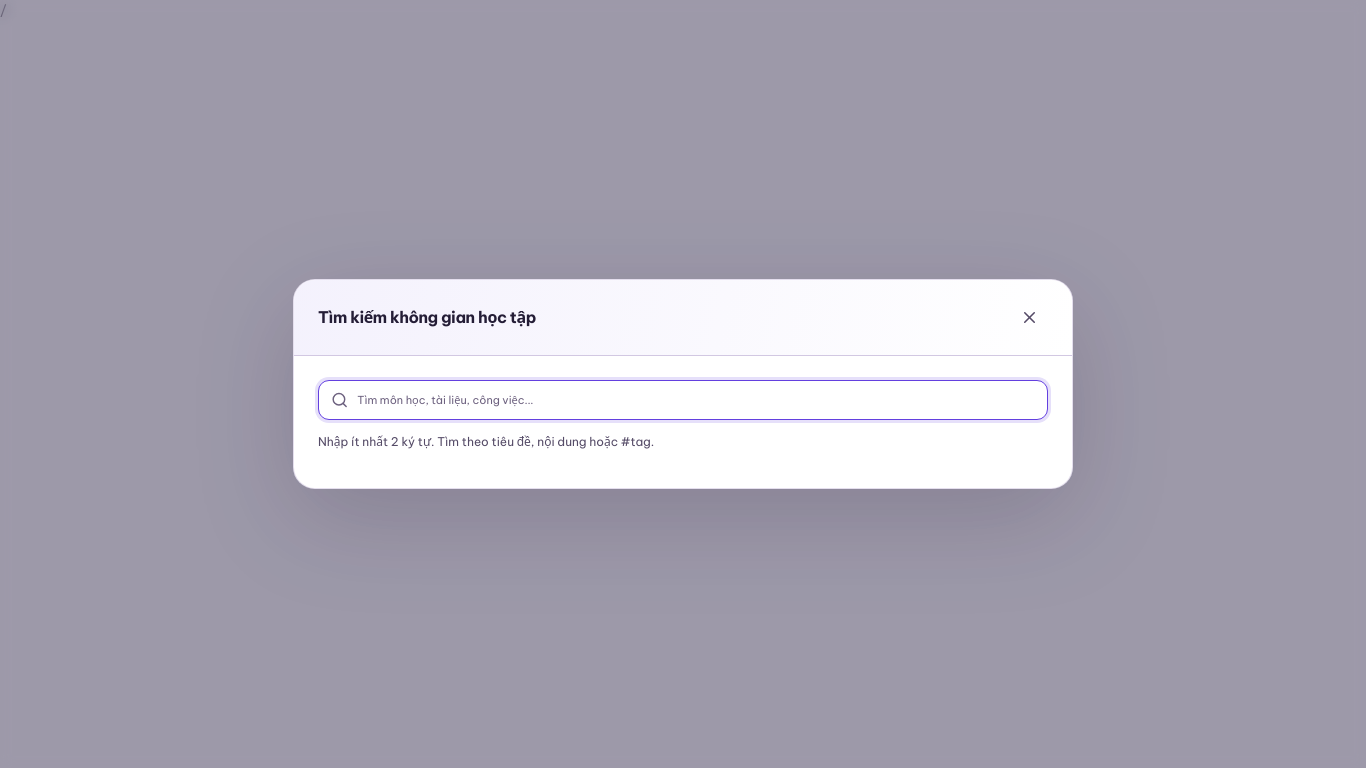
Workspace navigation › groups the real flat search response and opens the selected task
Type "chương" into the field named "Tìm kiếm toàn bộ" at (696, 400), box [357,382,1035,419]
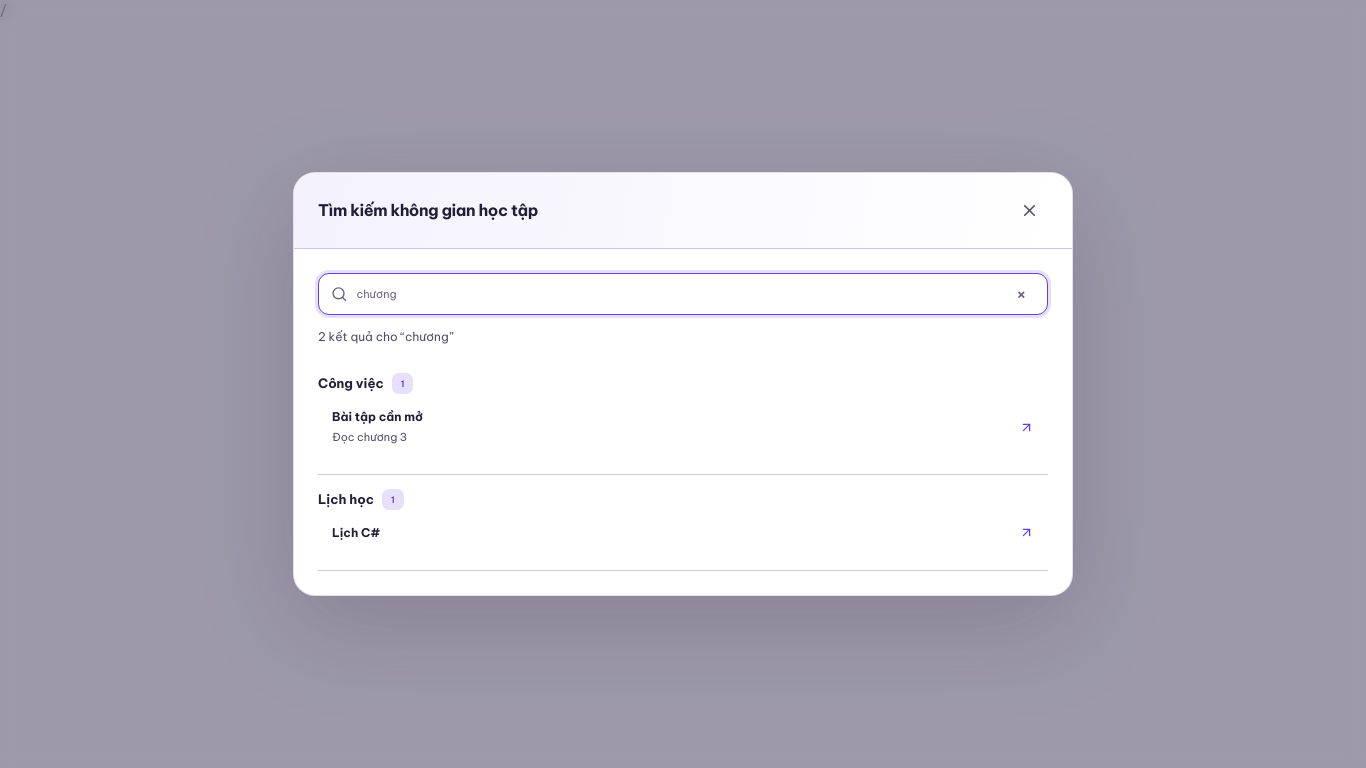
Now the text "Bài tập cần mở" is shown, box [332,409,423,424]
Now the heading "Lịch học 1" is shown, box [318,489,404,510]
Click the button "Bài tập cần mở Đọc chương 3" at (377, 417), box [318,394,1048,460]
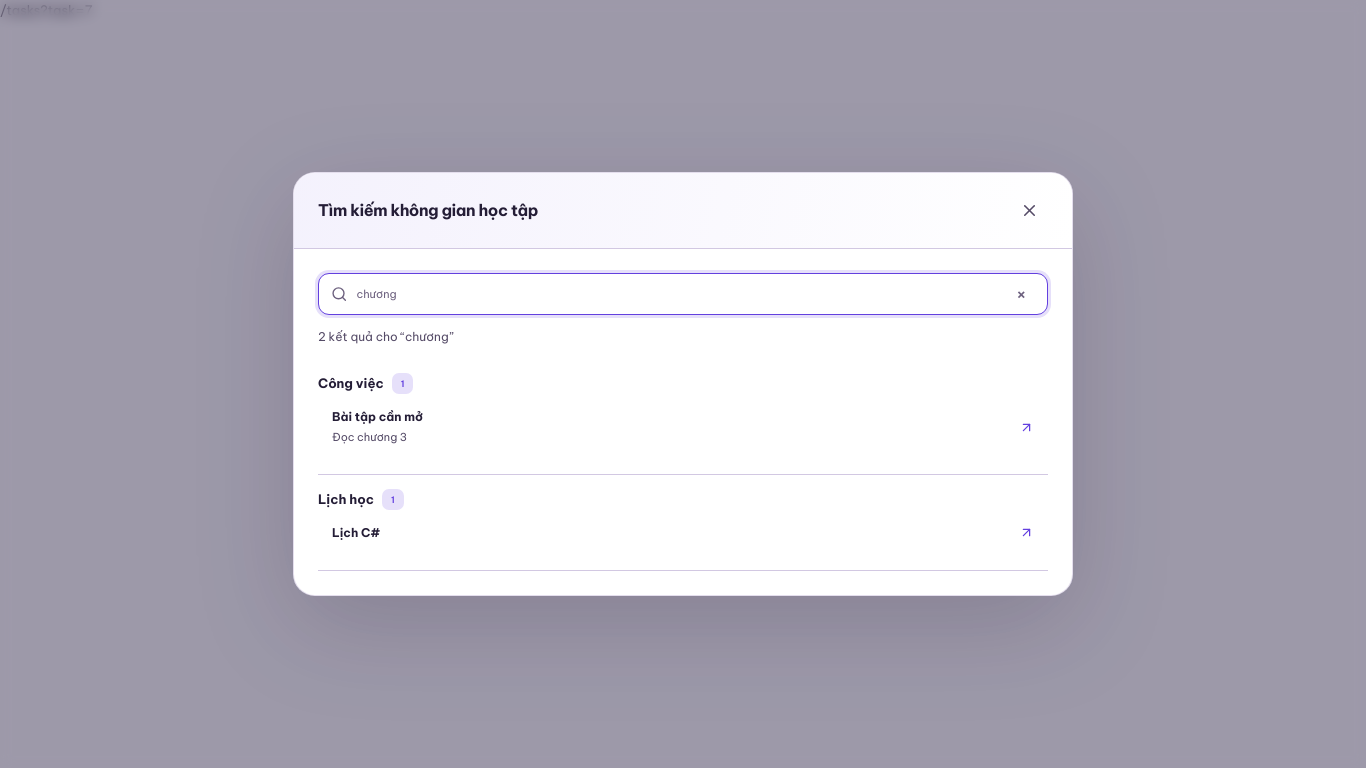
Now the text with test id "location" reads "/tasks?task=7", box [0,2,92,18]
